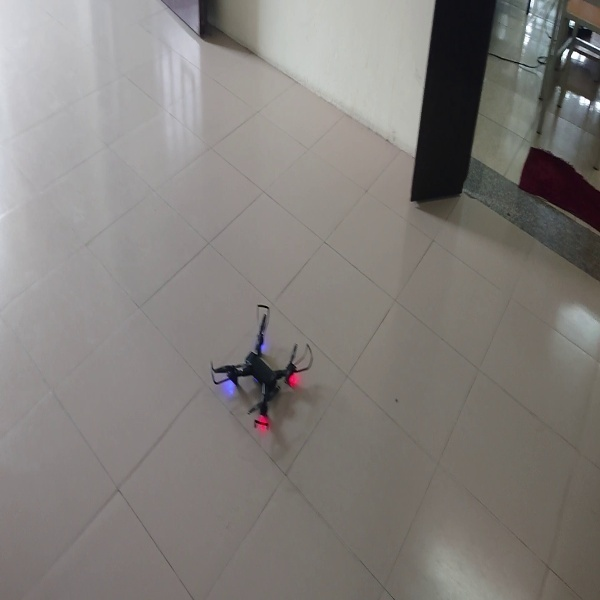drone: (202, 300, 317, 432)
